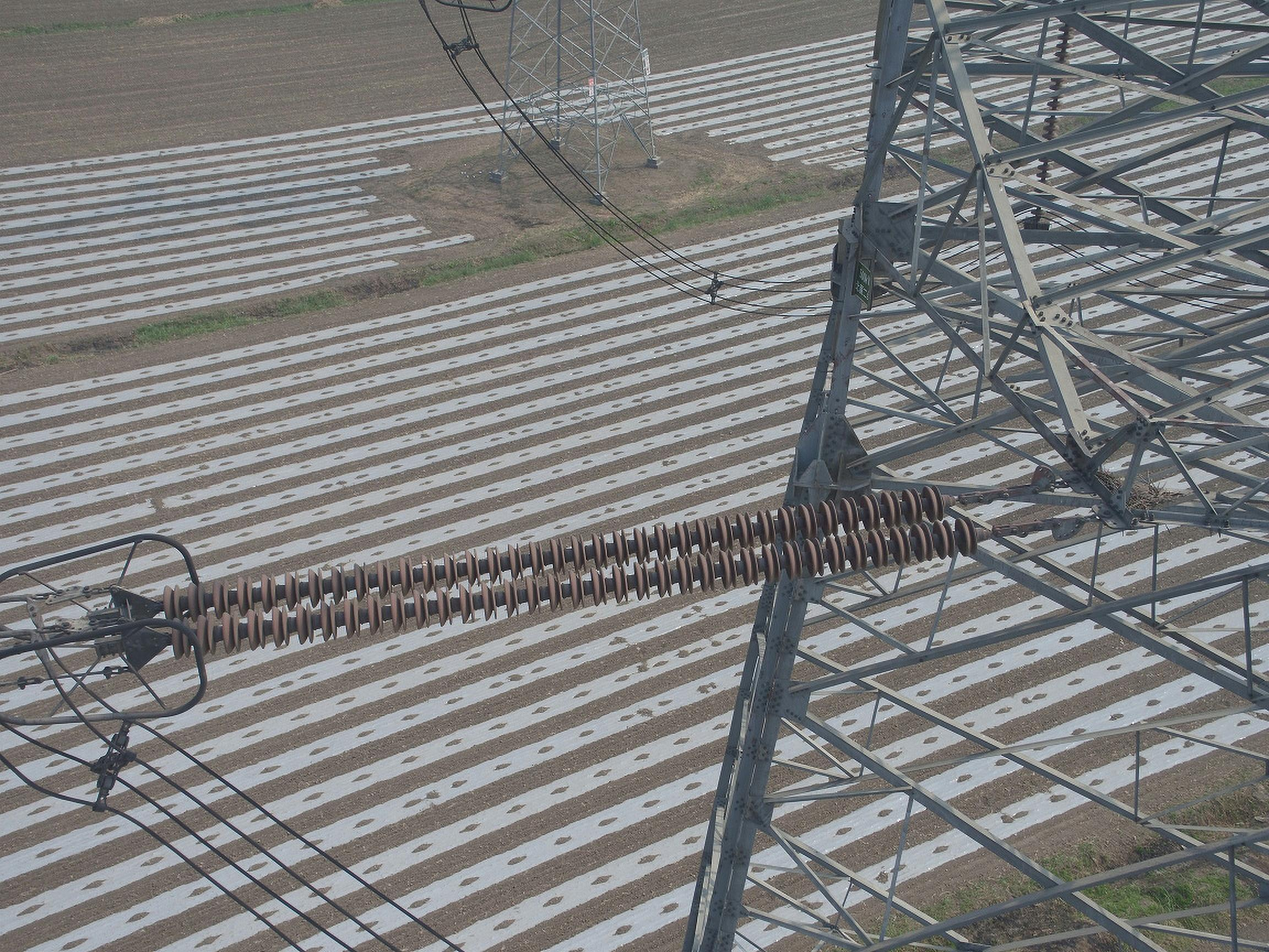insulator: (160, 482, 981, 666), (1028, 25, 1078, 218)
